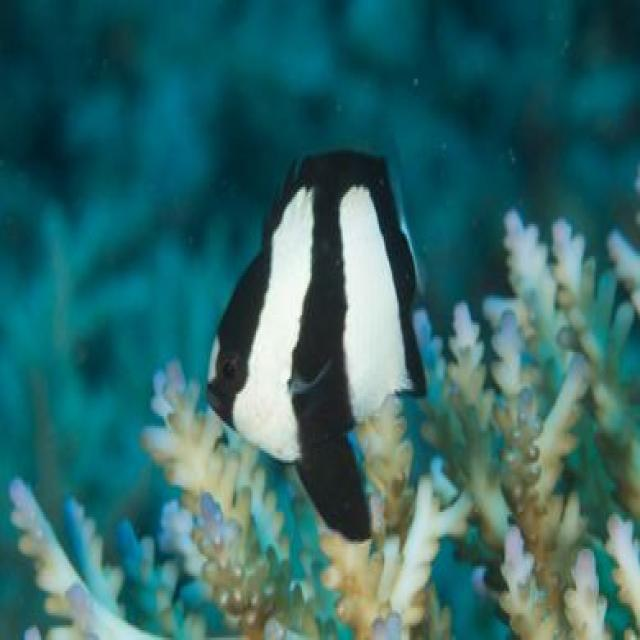ThreeStripedDamselfish: (205, 150, 430, 546)
